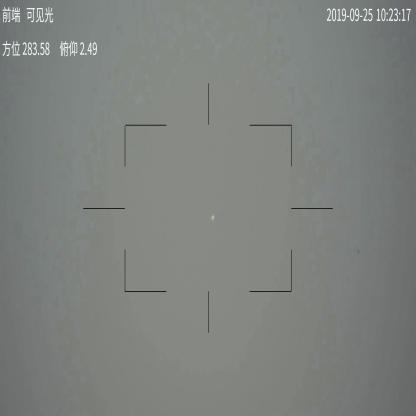uav: (212, 215, 216, 221)
